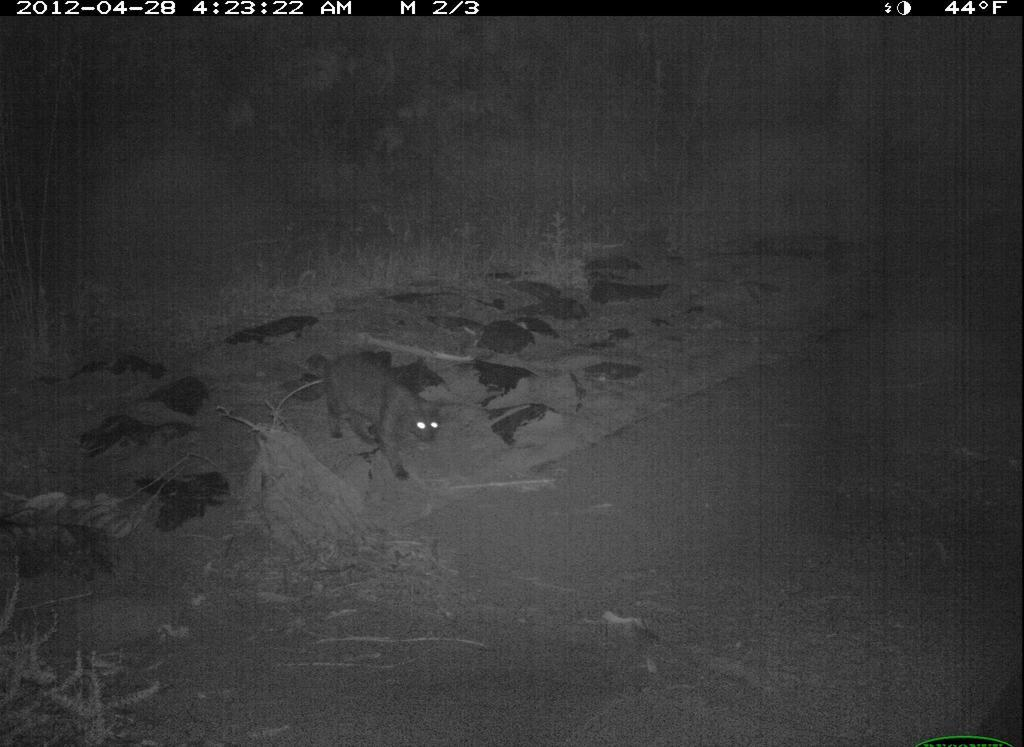cat: (301, 347, 449, 488)
